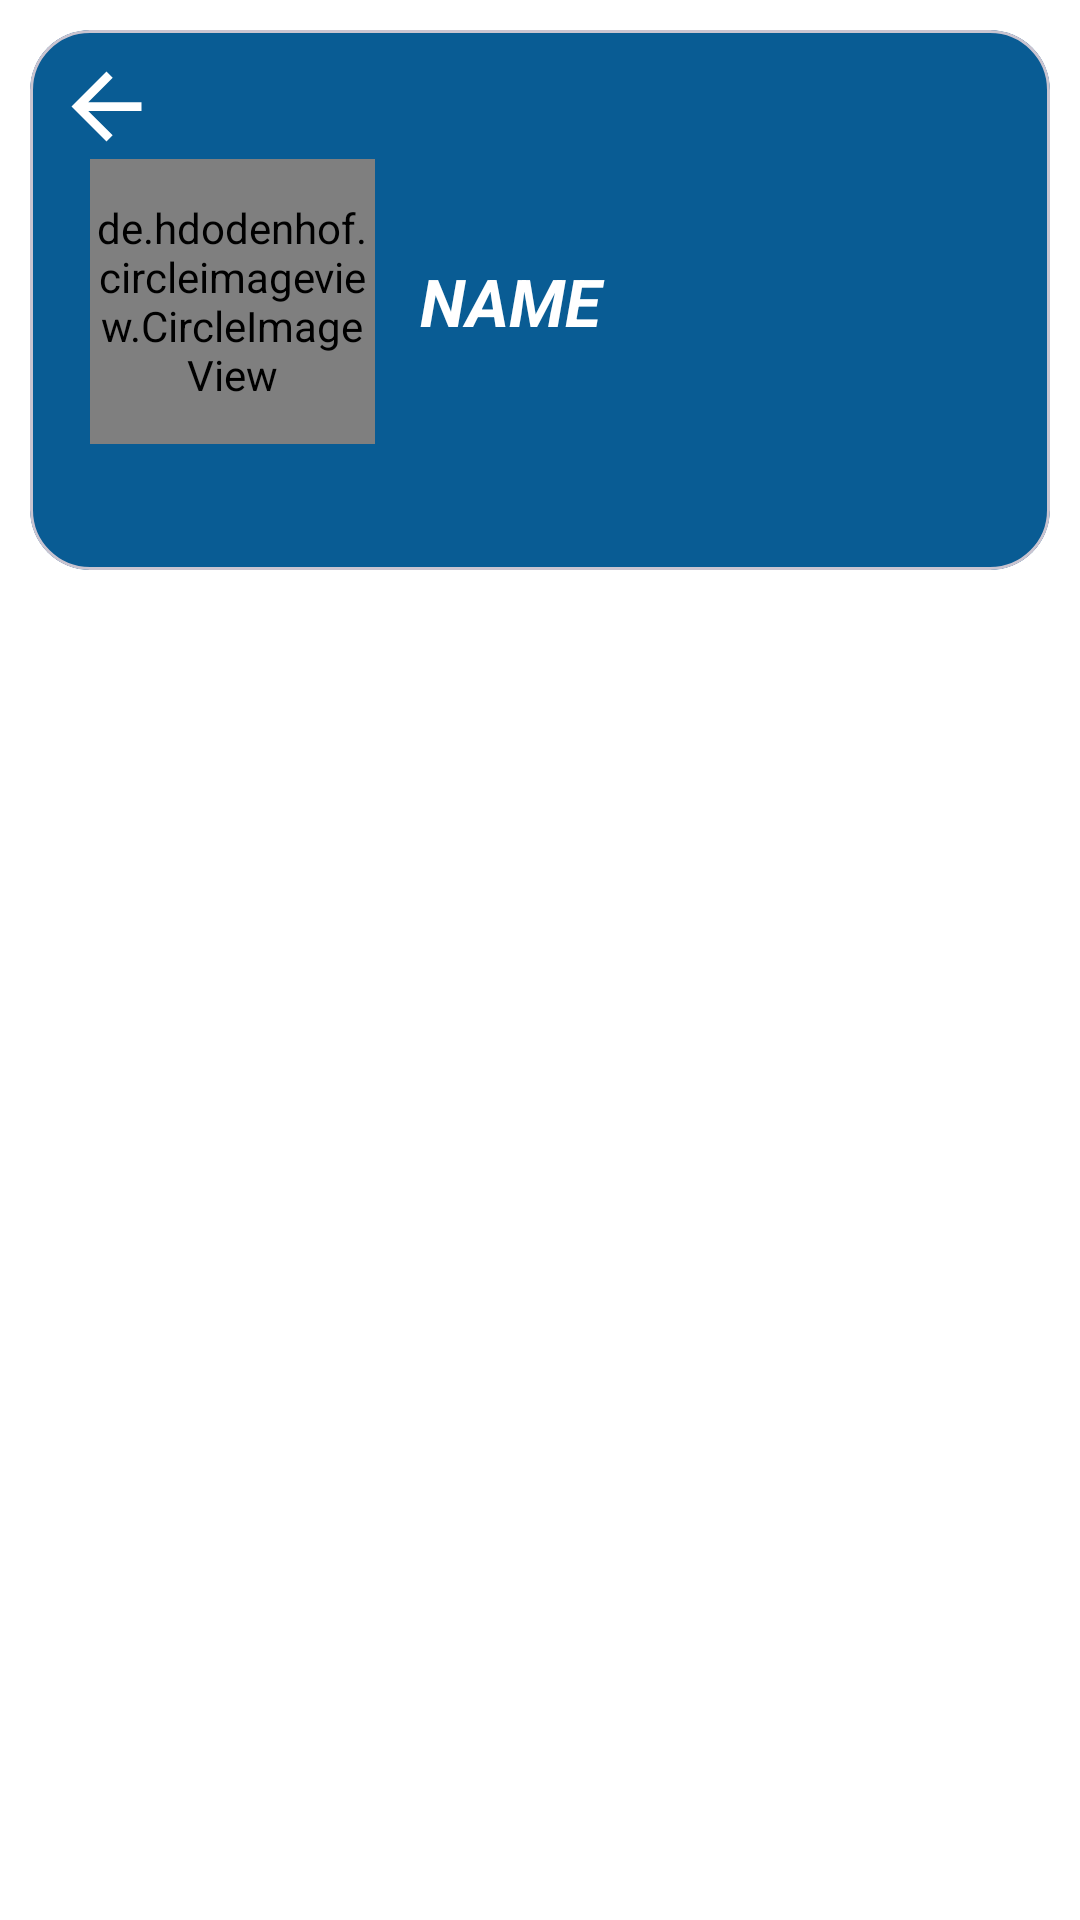

Named icons in this screenshot (1080×1920) and their centers, (x,y):
arrow back: (106,106)
